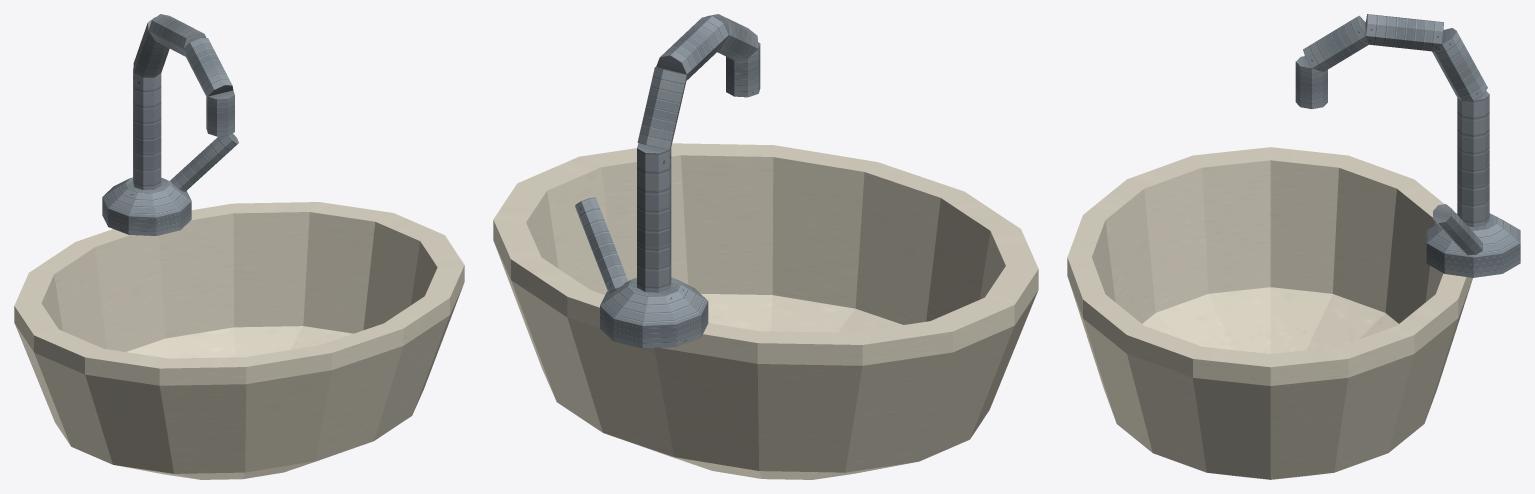
The model's file is MD_94_Washbasin.fbx.
3 renders of one model, left to right at view 1: azimuth 30°, elevation 25°; view 2: azimuth 150°, elevation 25°; view 3: azimuth 270°, elevation 25°, orthographic. The views are drawn at different scales.
Visible parts, largest first — view 1: MD_94_Washbasin_basin, MD_94_Washbasin_faucet_mount, MD_94_Washbasin_gooseneck_0, MD_94_Washbasin_gooseneck_3, MD_94_Washbasin_mixer_control, MD_94_Washbasin_gooseneck_2, MD_94_Washbasin_gooseneck_4, MD_94_Washbasin_gooseneck_1; view 2: MD_94_Washbasin_basin, MD_94_Washbasin_faucet_mount, MD_94_Washbasin_gooseneck_0, MD_94_Washbasin_gooseneck_1, MD_94_Washbasin_gooseneck_2, MD_94_Washbasin_mixer_control, MD_94_Washbasin_gooseneck_4, MD_94_Washbasin_gooseneck_3; view 3: MD_94_Washbasin_basin, MD_94_Washbasin_gooseneck_0, MD_94_Washbasin_faucet_mount, MD_94_Washbasin_gooseneck_2, MD_94_Washbasin_gooseneck_1, MD_94_Washbasin_gooseneck_3, MD_94_Washbasin_gooseneck_4, MD_94_Washbasin_mixer_control.
Part boxes in pixels (x1,y1,x2,y2): MD_94_Washbasin_basin: (14,202,464,479); MD_94_Washbasin_faucet_mount: (102,177,191,235); MD_94_Washbasin_gooseneck_0: (133,67,161,189); MD_94_Washbasin_gooseneck_3: (183,37,233,96); MD_94_Washbasin_mixer_control: (170,133,238,191); MD_94_Washbasin_gooseneck_2: (148,14,206,56); MD_94_Washbasin_gooseneck_4: (206,90,234,136); MD_94_Washbasin_gooseneck_1: (133,17,169,77); MD_94_Washbasin_basin: (493,143,1038,479); MD_94_Washbasin_faucet_mount: (600,277,708,348); MD_94_Washbasin_gooseneck_0: (637,143,671,292); MD_94_Washbasin_gooseneck_1: (637,67,686,149); MD_94_Washbasin_gooseneck_2: (656,15,728,80); MD_94_Washbasin_mixer_control: (575,197,627,293); MD_94_Washbasin_gooseneck_4: (726,42,760,97); MD_94_Washbasin_gooseneck_3: (706,14,758,60); MD_94_Washbasin_basin: (1067,147,1472,479); MD_94_Washbasin_gooseneck_0: (1457,91,1489,227); MD_94_Washbasin_faucet_mount: (1426,213,1520,277); MD_94_Washbasin_gooseneck_2: (1365,14,1443,51); MD_94_Washbasin_gooseneck_1: (1432,28,1487,101); MD_94_Washbasin_gooseneck_3: (1303,15,1368,71); MD_94_Washbasin_gooseneck_4: (1295,56,1327,108); MD_94_Washbasin_mixer_control: (1433,204,1482,255).
Size of the model in its own units: 0.58 by 0.5069 by 0.5045.
2 materials, 2 textured.
